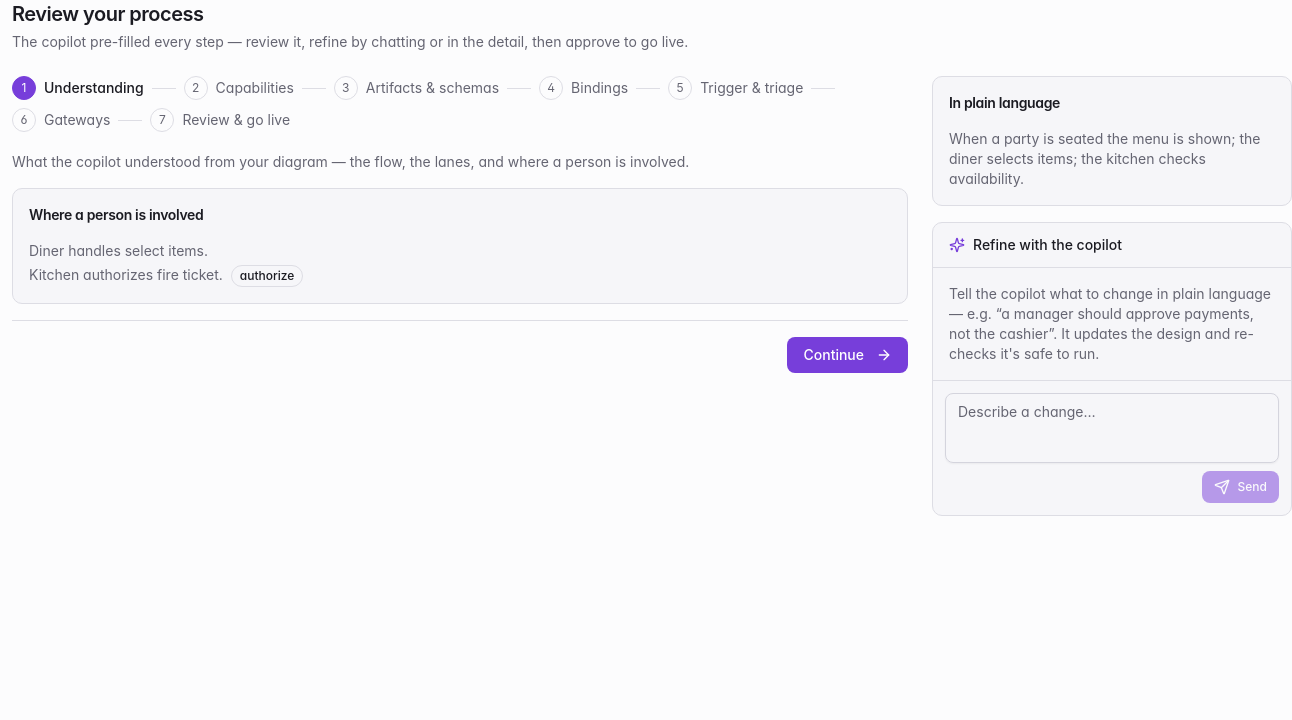
Copilot flow — Review › lands pre-filled: summary in the rail, humanized gates on Understanding; go-live on the Review step
Expected: the text "When a party is seated" is shown, 949,130 -> 1260,187
Expected: the text "Kitchen authorizes fire ticket. authorize" is shown, 29,265 -> 303,287
# the Review & go live step carries the open question, readiness, side-effect badge, and enabled approve
Click the button "7 Review & go live" at (220, 120), box 150,108 -> 290,132
(page scrolled)
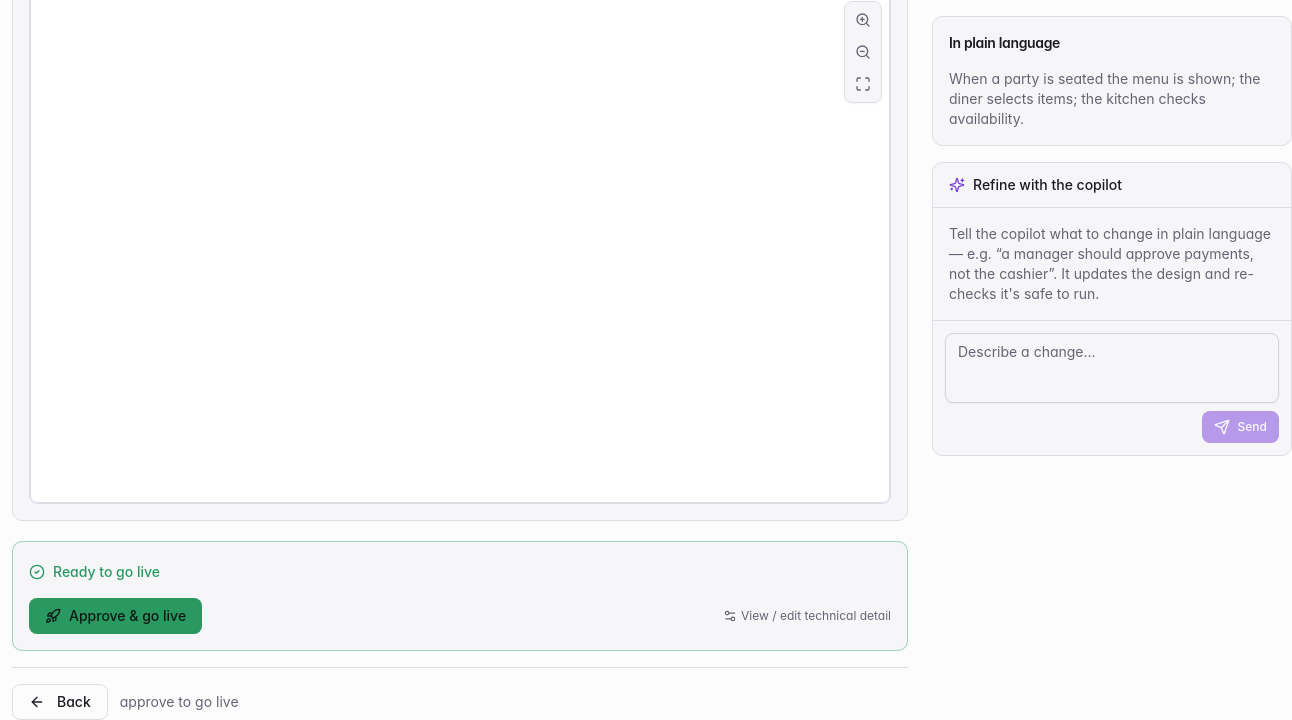
Now the text "Ready to go live" is shown, box 29,563 -> 160,580
Now the button "Approve & go live" is enabled, box 29,598 -> 202,634
